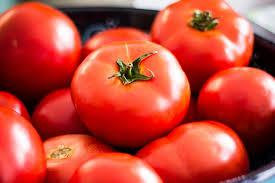tomato: (74, 42, 190, 141), (152, 2, 252, 79), (2, 2, 81, 98), (133, 120, 250, 180), (196, 66, 274, 131), (41, 132, 113, 180), (70, 153, 164, 183), (33, 90, 84, 139)
